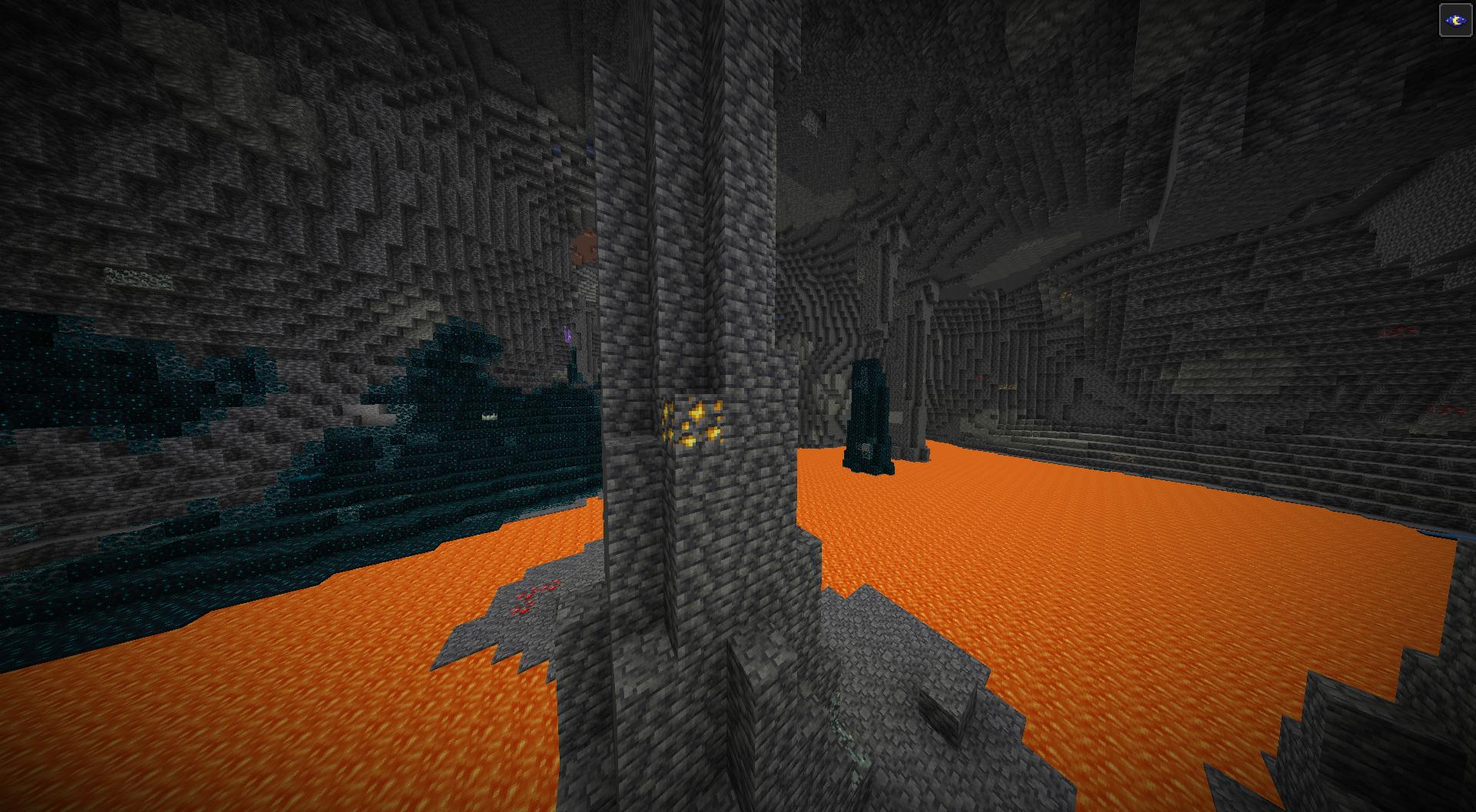gold ore: (675, 396, 727, 443), (658, 396, 682, 448)
redstone ore: (510, 581, 560, 618)
